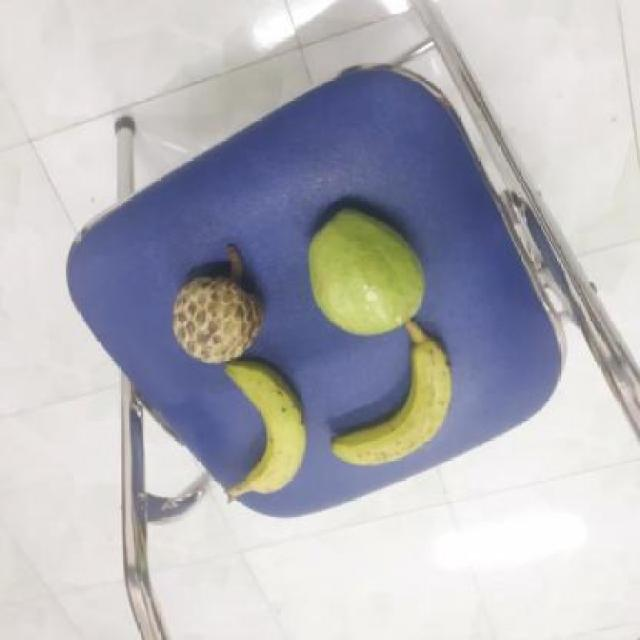banana: (332, 332, 460, 466), (222, 363, 312, 494)
guava: (308, 211, 434, 332)
sugar apple: (169, 266, 269, 362)
